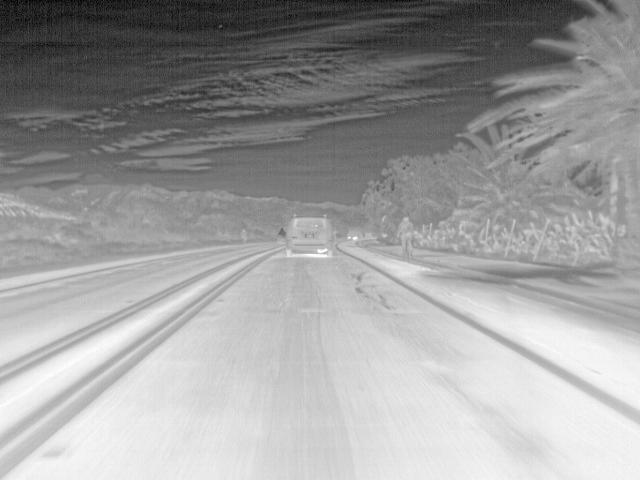car: (285, 215, 335, 255), (344, 230, 362, 242)
person: (400, 216, 412, 236)
